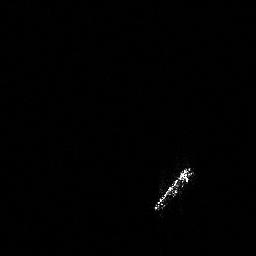ship: (152, 163, 195, 217)
